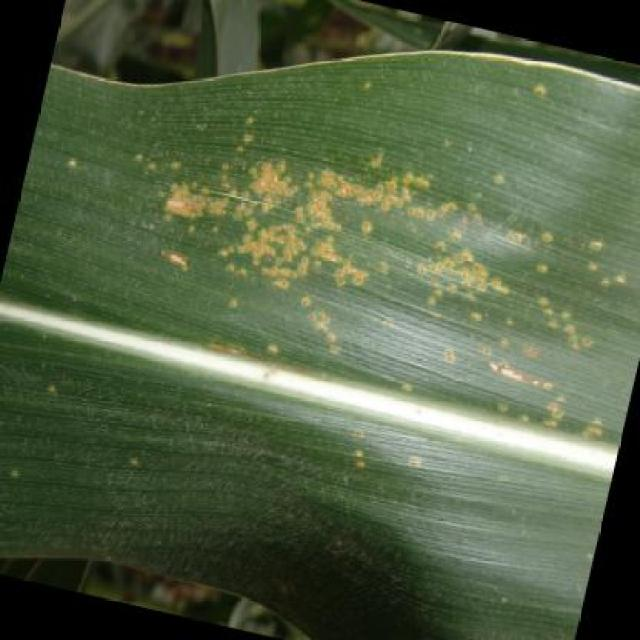Corn_Rust: (54, 65, 597, 508)
